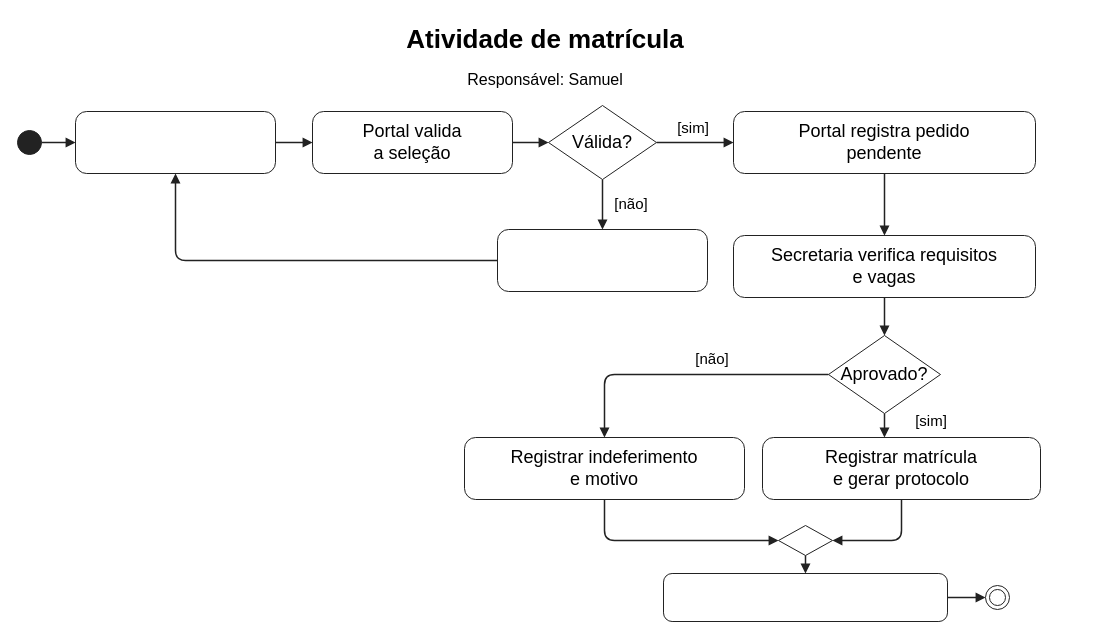
This 1099x639 diagram has some shape labels left out. Here are the shapes that lost their labels. From the top down, the centre of each, then its label:
At [175,142]: "Aluno seleciona a turma".
At [602,260]: "Aluno corrige a seleção".
At [805,597]: "Aluno consulta a decisão".
